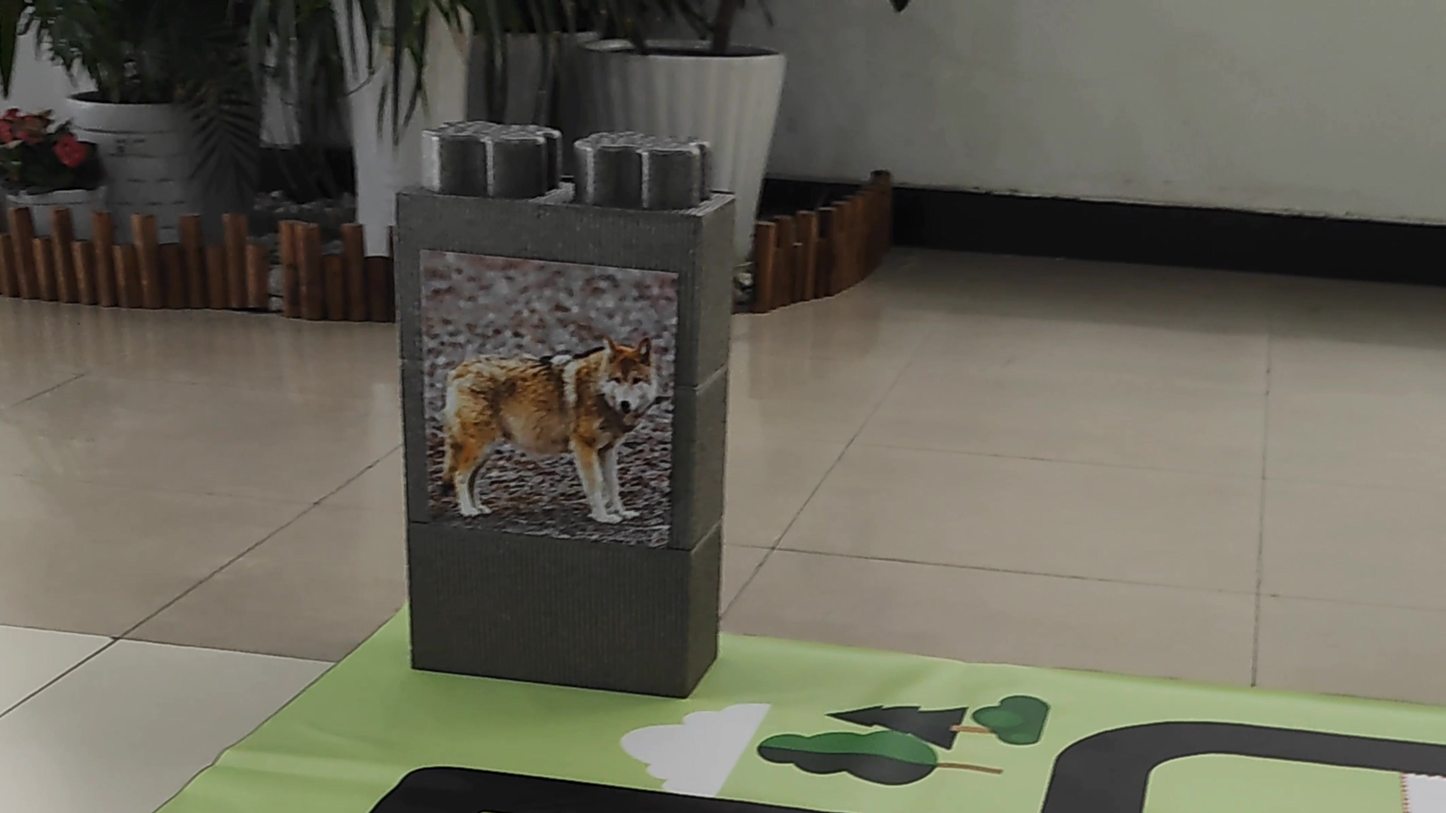wolf: (412, 290, 662, 553)
